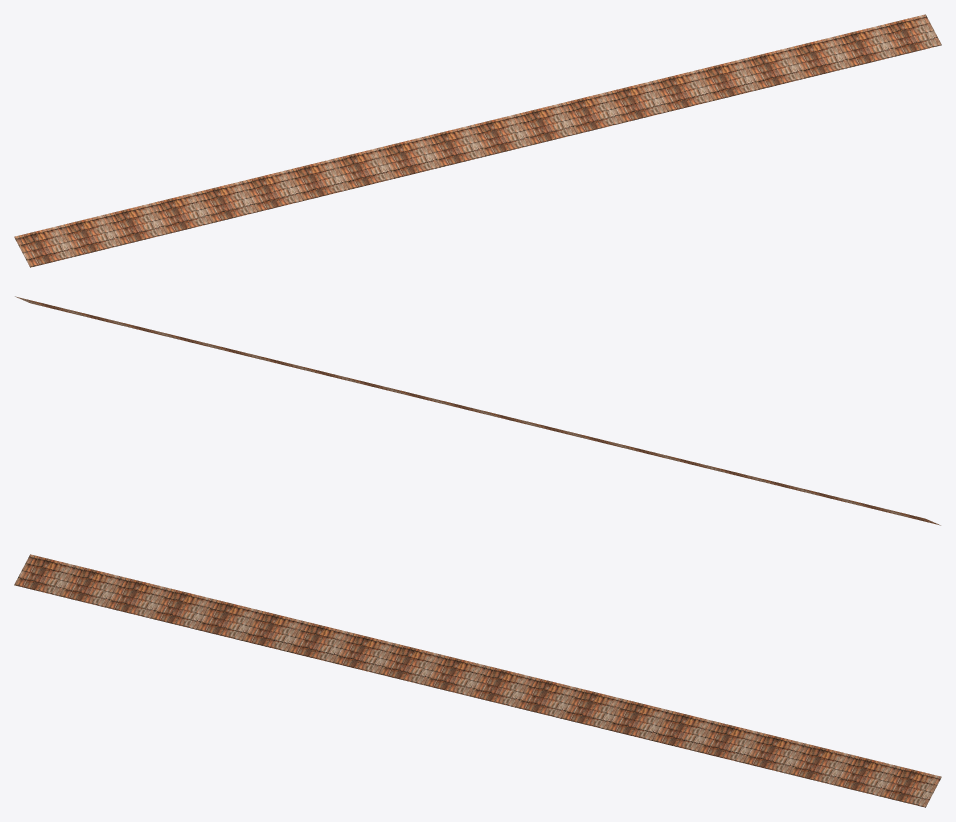
The model's file is techo.dae.
The picture shows the model from 3 angles, top to bottom: view 1: azimuth 30°, elevation 25°; view 2: azimuth 150°, elevation 25°; view 3: azimuth 330°, elevation 25°; orthographic projection.
Parts seen in each view (by area): view 1: Estructura_Casa.002; view 2: Estructura_Casa.002; view 3: Estructura_Casa.002.
Part boxes in pixels (bbox=[...]): Estructura_Casa.002: bbox=[14, 14, 941, 267]; Estructura_Casa.002: bbox=[15, 296, 940, 525]; Estructura_Casa.002: bbox=[14, 554, 941, 807].
Size of the model in its own units: 175 by 5.41 by 3.49.
Materials: 1 (1 with a texture image).
